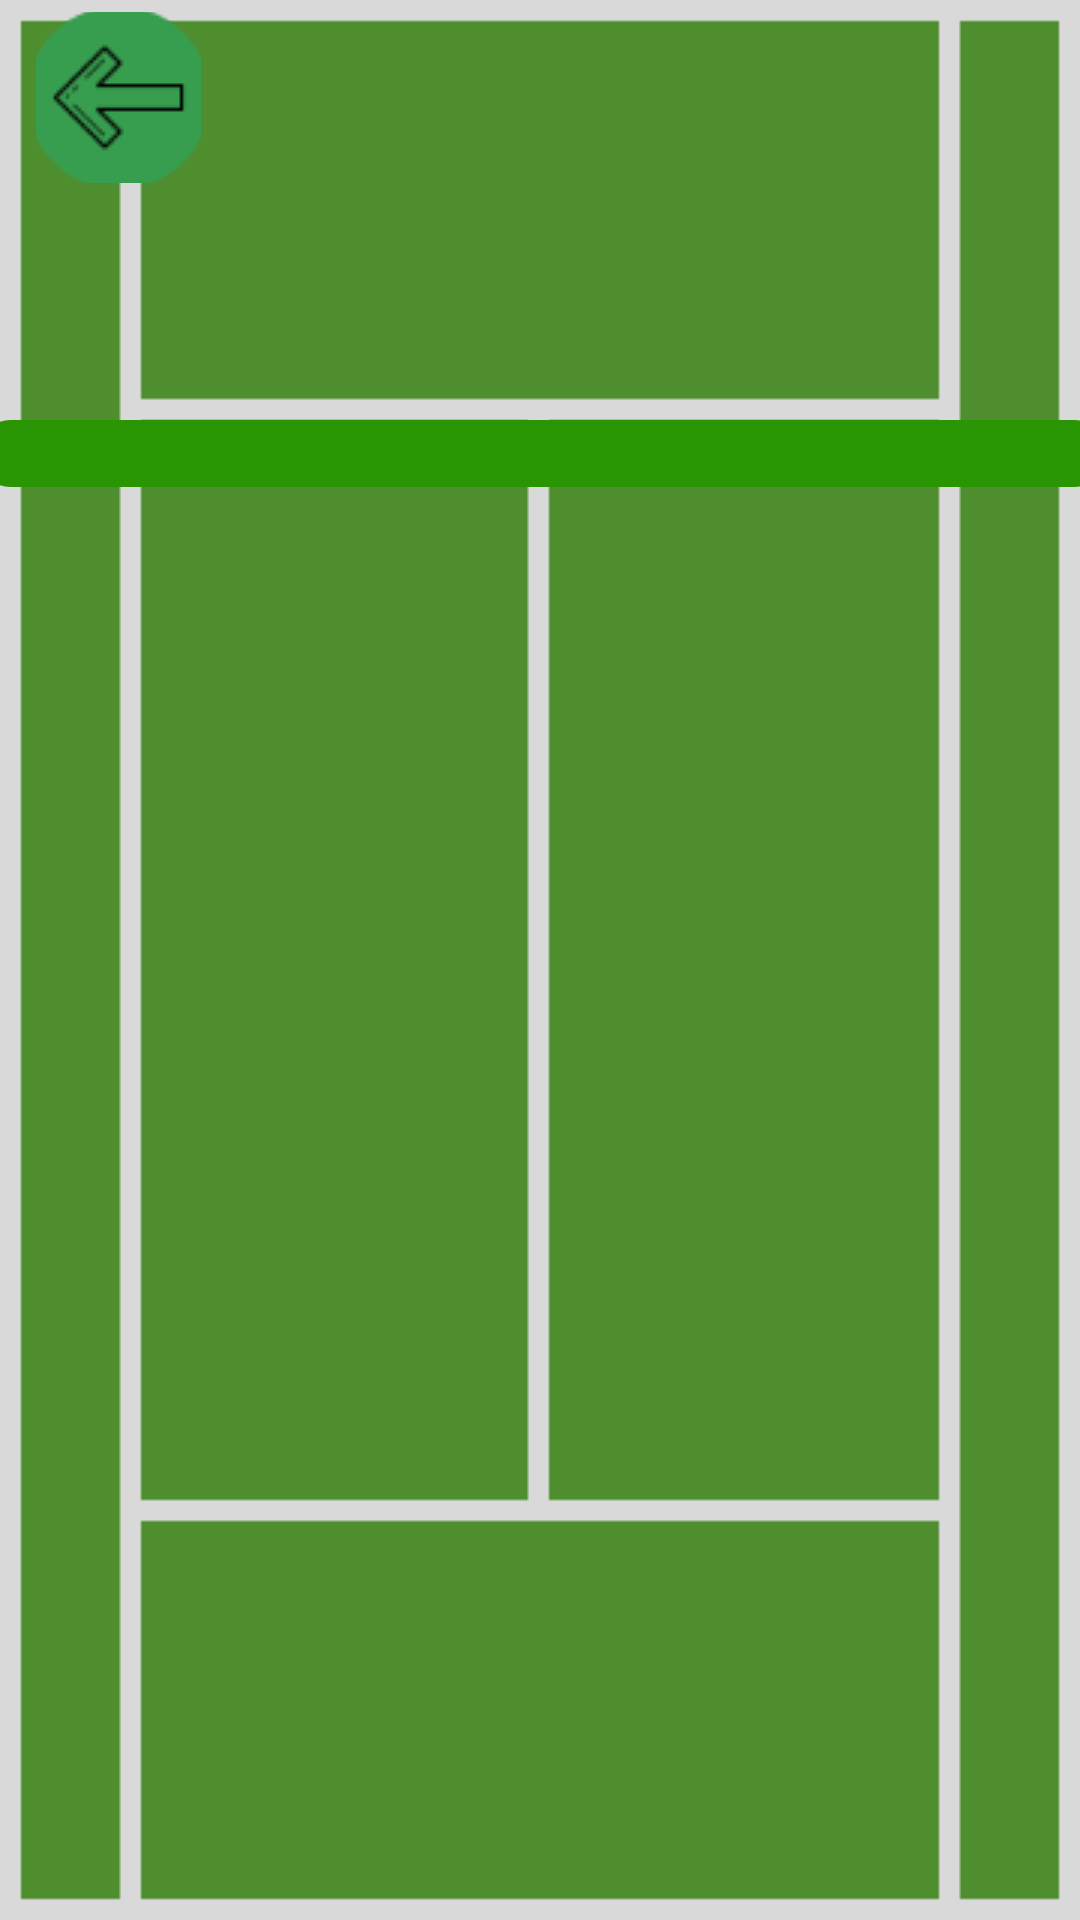

Locate icon controls on the screen. Image size 1080 × 1920, boxes as (x1, y1, x2, y2).
strelka: (36, 12, 201, 183)
